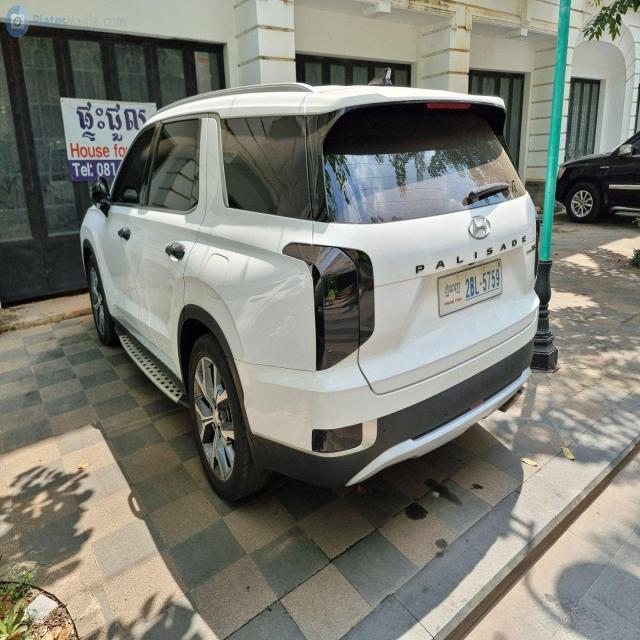Phnom_Penh: (444, 280, 462, 298)
